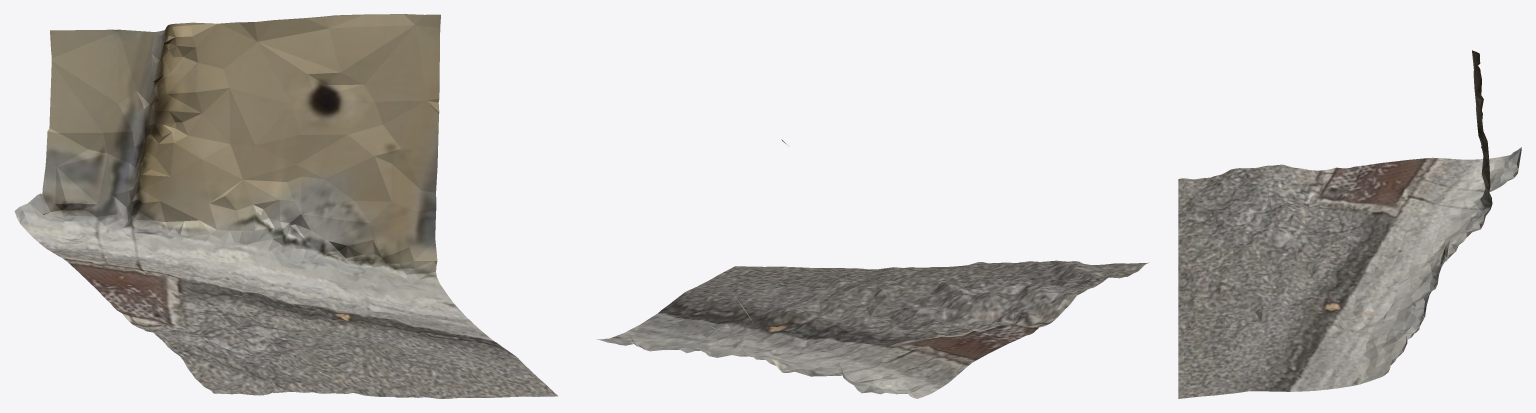
The picture shows the model from 3 angles, left to right: view 1: azimuth 30°, elevation 25°; view 2: azimuth 150°, elevation 25°; view 3: azimuth 270°, elevation 25°; orthographic projection. The views are drawn at different scales.
Size of the model in its own units: 1.67 by 1.37 by 1.67.
3 materials, 3 textured.
